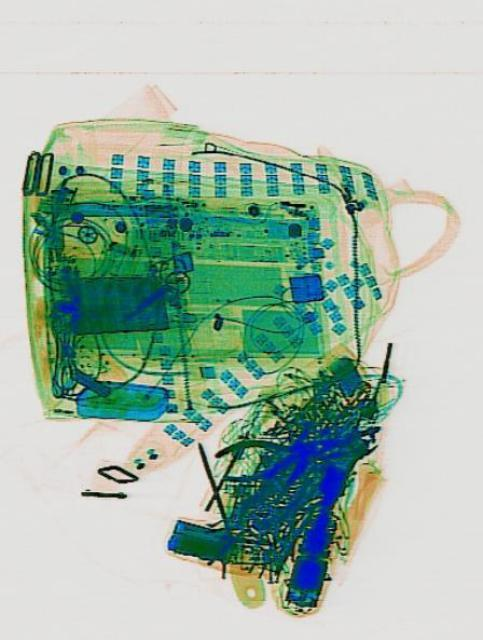Pliers: (210, 418, 341, 488)
